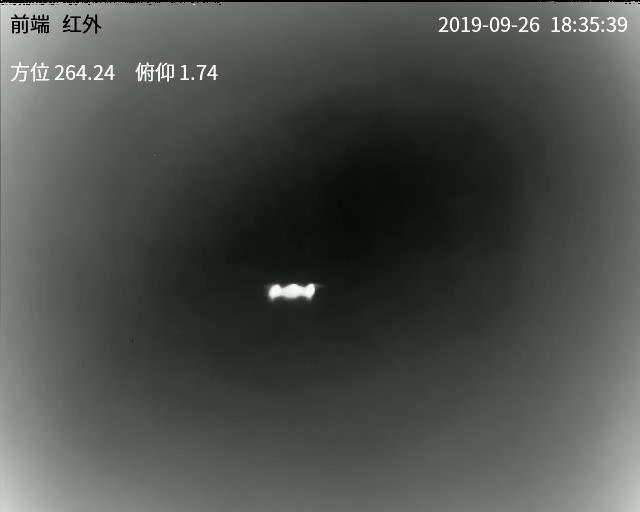uav: (265, 279, 322, 304)
